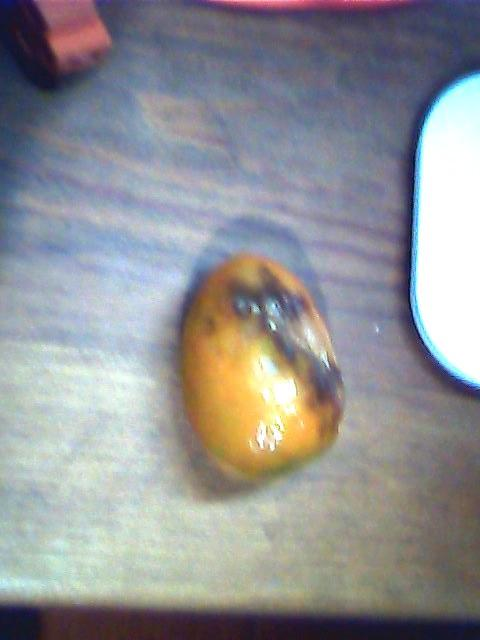defectuoso: (180, 256, 342, 478)
